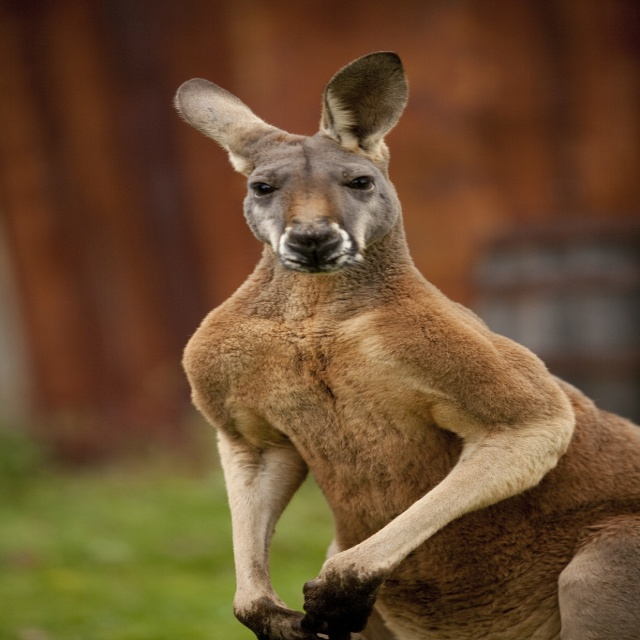Kangaroo: (172, 50, 639, 640)
